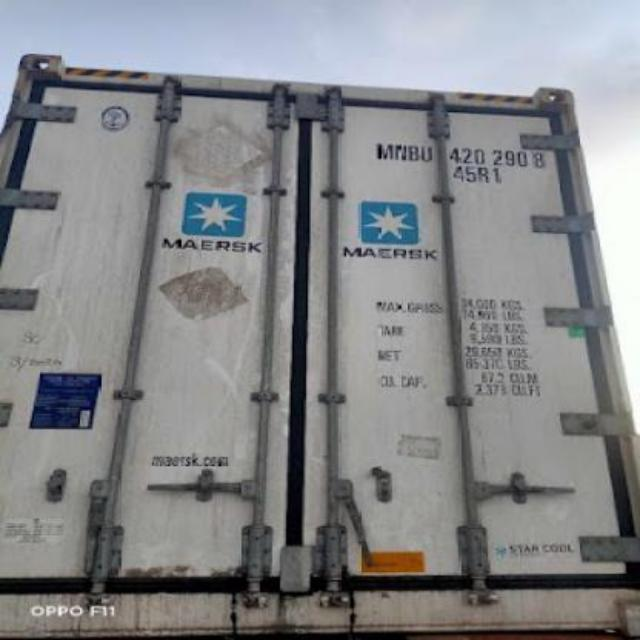0: (516, 150, 528, 170), (474, 147, 486, 165)
2: (491, 147, 504, 169), (462, 146, 472, 164)
4: (447, 146, 463, 166)
8: (531, 150, 547, 170)
9: (504, 150, 516, 168)
B: (406, 144, 419, 164)
M: (375, 142, 393, 162)
N: (394, 142, 406, 162)
U: (421, 144, 434, 162)
